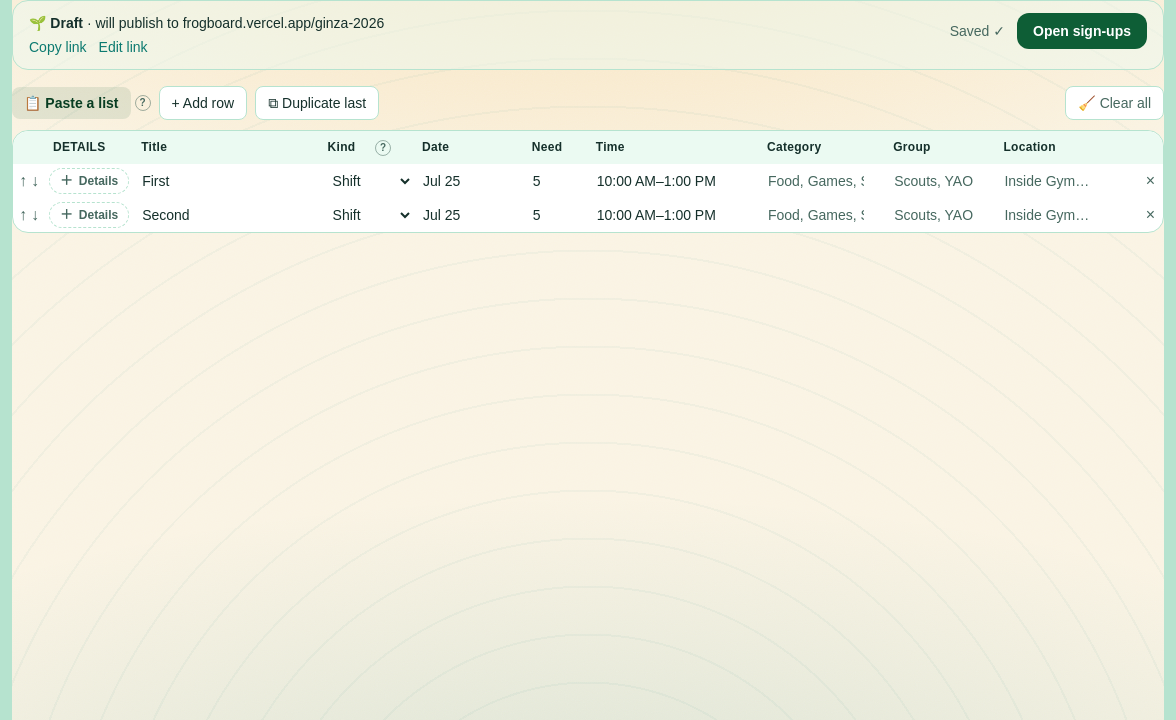
Test: Clear all shows a persistent inline banner and Undo restores every row
The image size is (1176, 720).
Click the button "🧹 Clear all" at point(1115, 103), box [1065,86,1164,120]
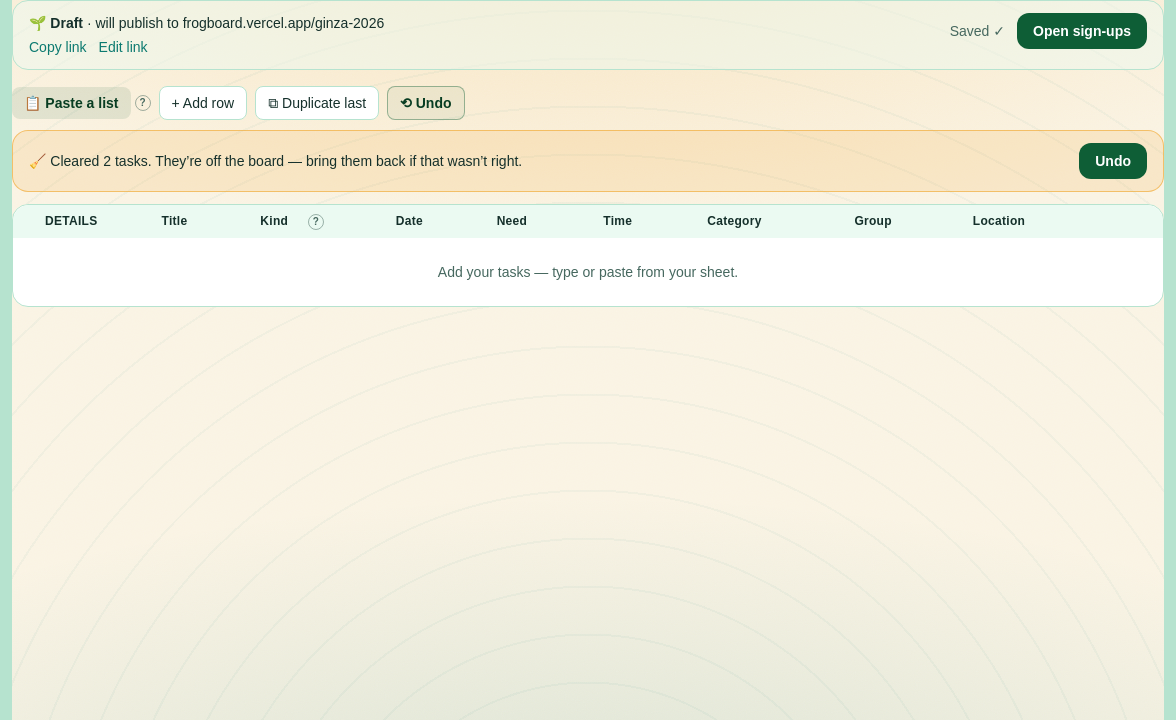
Check: the text "Cleared 2 tasks" is shown, box [29,151,522,171]
Click the button "Undo" at point(1113, 161), box [1079,143,1147,179]
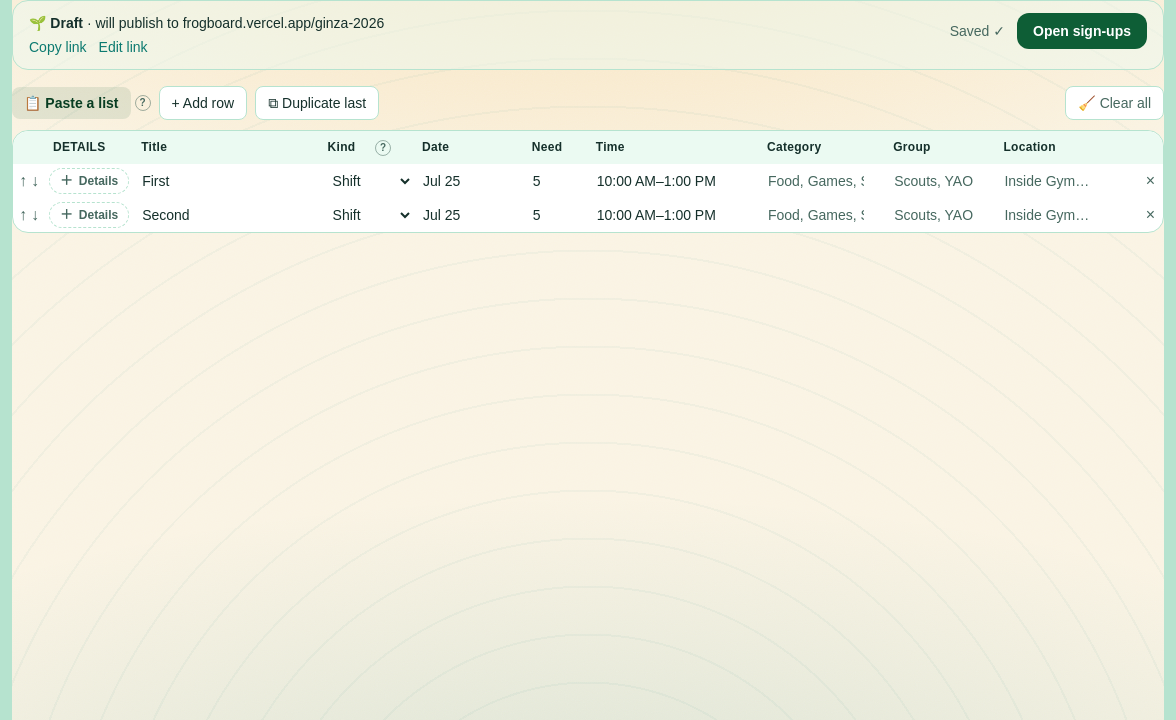
Check: the field named "Title, row 1" holds "First", box [133,164,320,198]
Check: the field named "Title, row 2" holds "Second", box [133,198,320,232]
